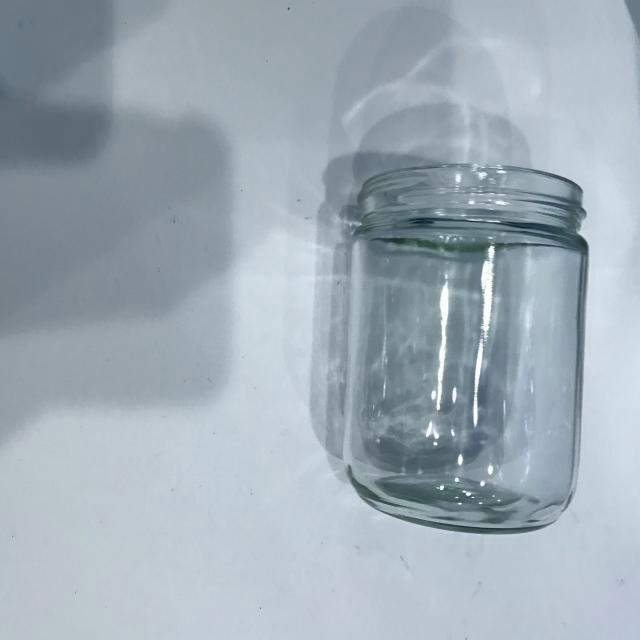glass: (338, 149, 592, 542)
